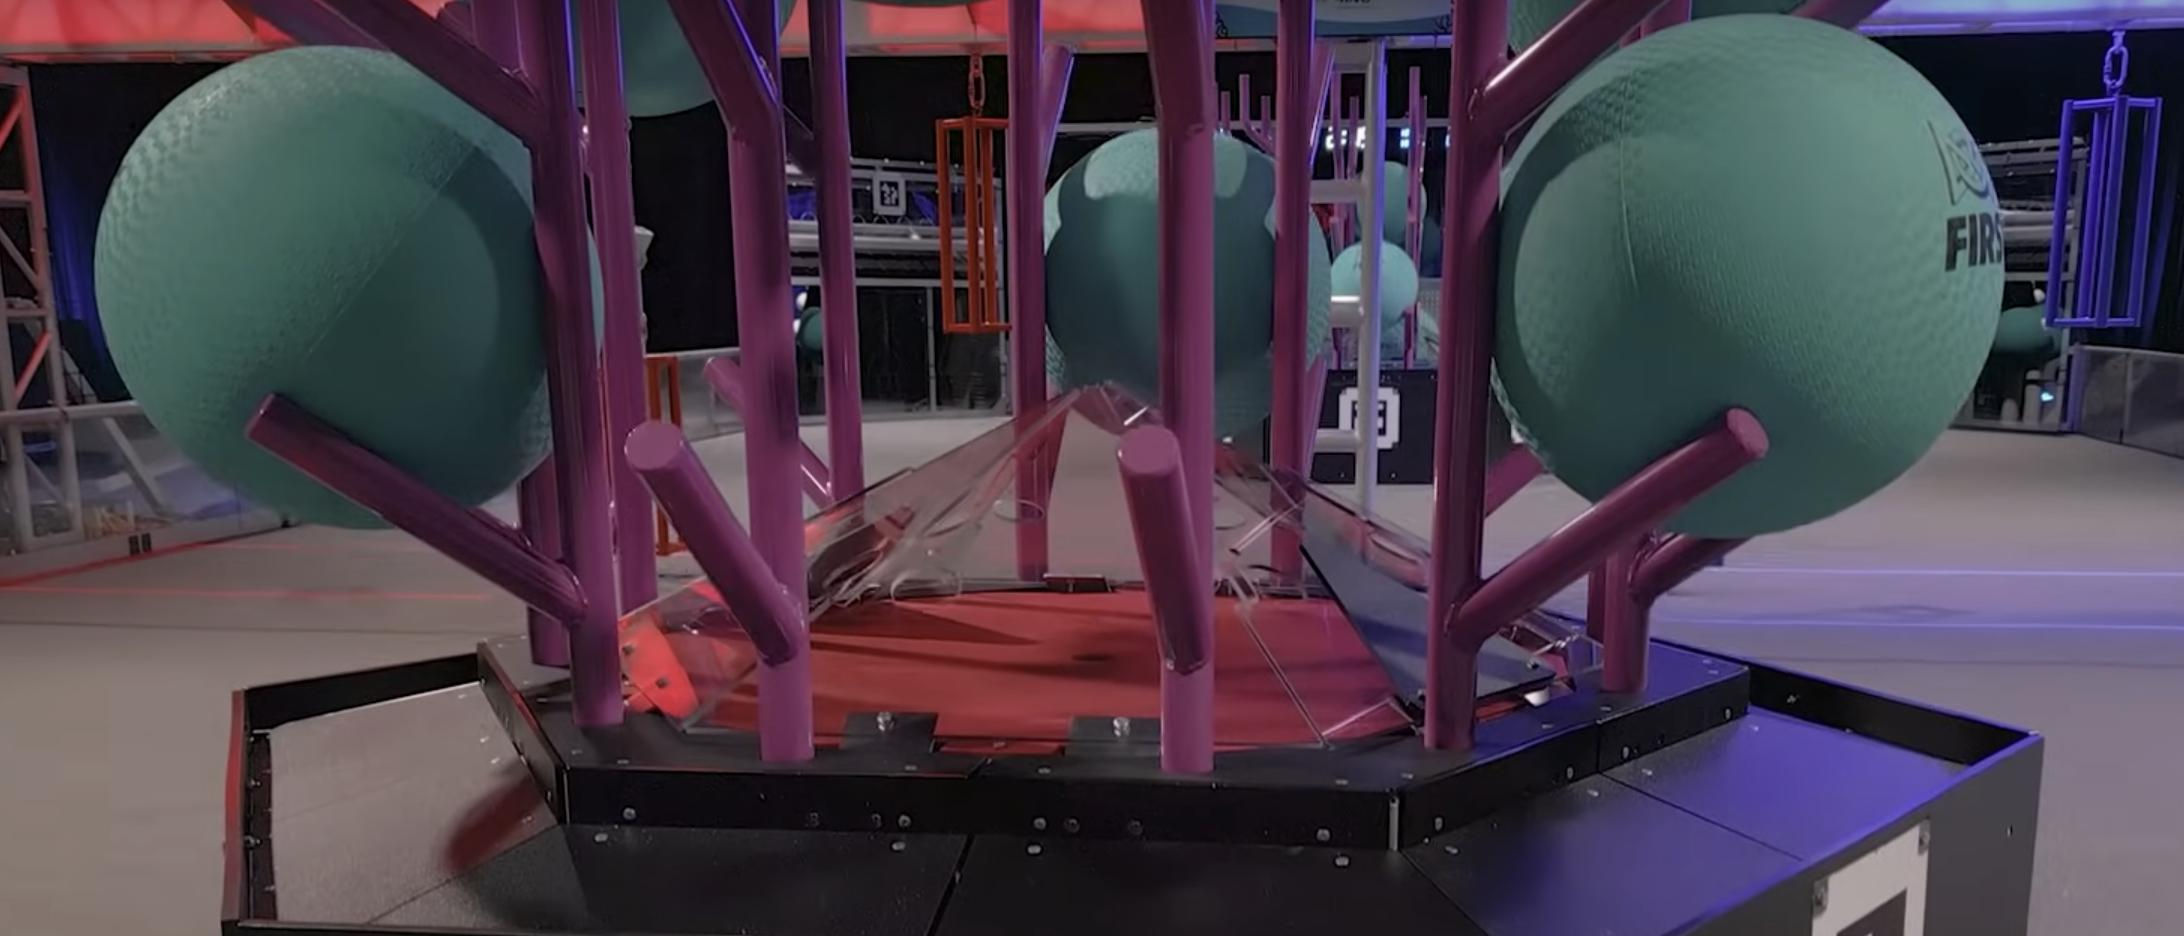algae: (1485, 15, 2004, 536), (96, 45, 604, 526), (1046, 121, 1333, 425), (567, 0, 798, 116), (1507, 0, 1808, 75), (1332, 241, 1418, 329), (1354, 162, 1426, 245)
